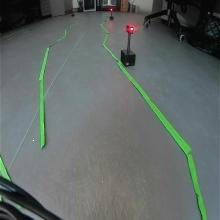red: (126, 25, 135, 34)
